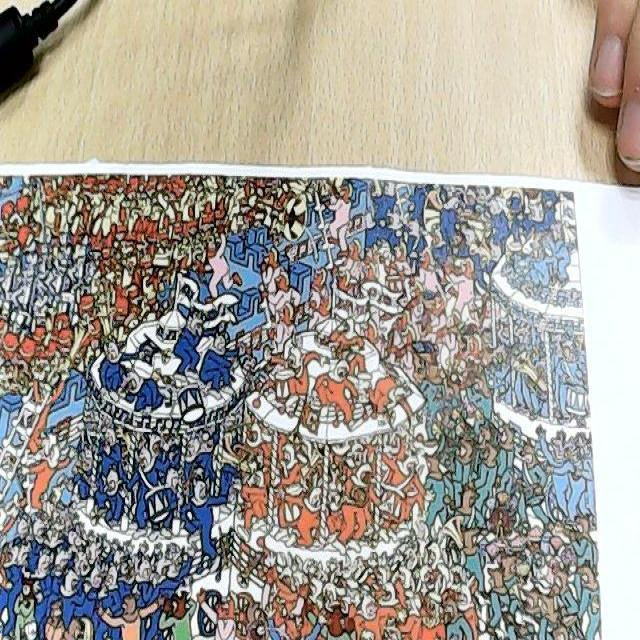waldo: (478, 324, 495, 352)
